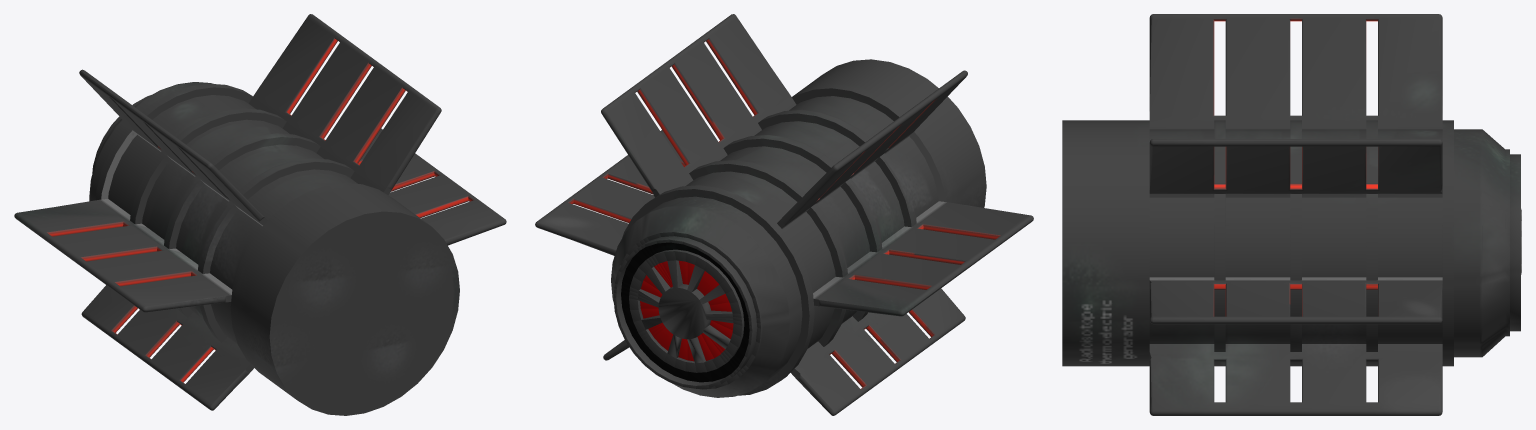
Rendered from SSCRTG1.fbx.
The picture shows the model from 3 angles, left to right: view 1: azimuth 30°, elevation 25°; view 2: azimuth 150°, elevation 25°; view 3: azimuth 270°, elevation 25°; orthographic projection. The views are drawn at different scales.
Parts seen in each view (by area): view 1: SSCRTG1; view 2: SSCRTG1; view 3: SSCRTG1.
Part boxes in pixels (box(x1,y1,x2,y2)): SSCRTG1: box(14, 14, 506, 415); SSCRTG1: box(535, 14, 1033, 415); SSCRTG1: box(1062, 14, 1521, 415).
Size of the model in its own units: 413 by 269 by 403.
